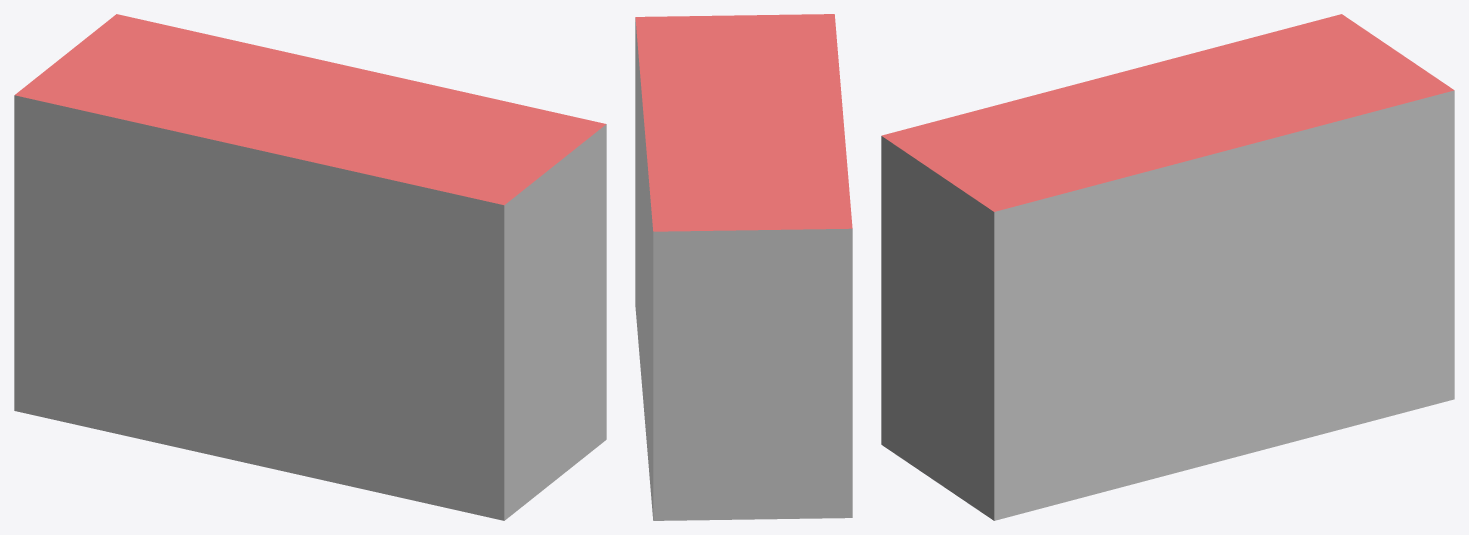
The picture shows the model from 3 angles, left to right: view 1: azimuth 30°, elevation 25°; view 2: azimuth 150°, elevation 25°; view 3: azimuth 270°, elevation 25°; orthographic projection. The views are drawn at different scales.
Parts seen in each view (by area): view 1: Z_UP; view 2: Z_UP; view 3: Z_UP.
Part boxes in pixels (x1,y1,x2,y2): Z_UP: (14,14,606,520); Z_UP: (635,14,852,520); Z_UP: (881,14,1454,520).
Size of the model in its own units: 21.99 by 16 by 26.92.
